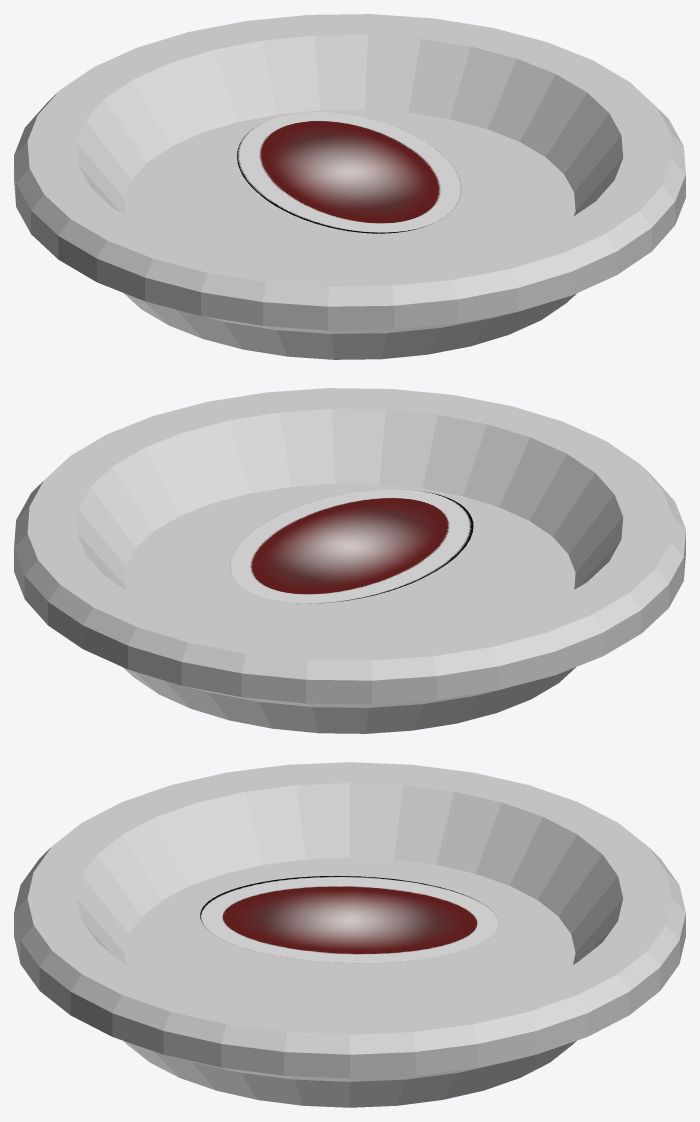
File: plato.fbx
3 views of the same model, one above another, from view 1: azimuth 30°, elevation 25°; view 2: azimuth 150°, elevation 25°; view 3: azimuth 270°, elevation 25° (orthographic).
Visible parts, largest first — view 1: plato, textura; view 2: plato, textura; view 3: plato, textura.
Part boxes in pixels (x1,y1,x2,y2): plato: (14,14,685,359); textura: (237,112,461,233); plato: (14,388,685,733); textura: (229,489,473,603); plato: (14,762,685,1107); textura: (200,876,498,963).
Size of the model in its own units: 200 by 35.34 by 200.
